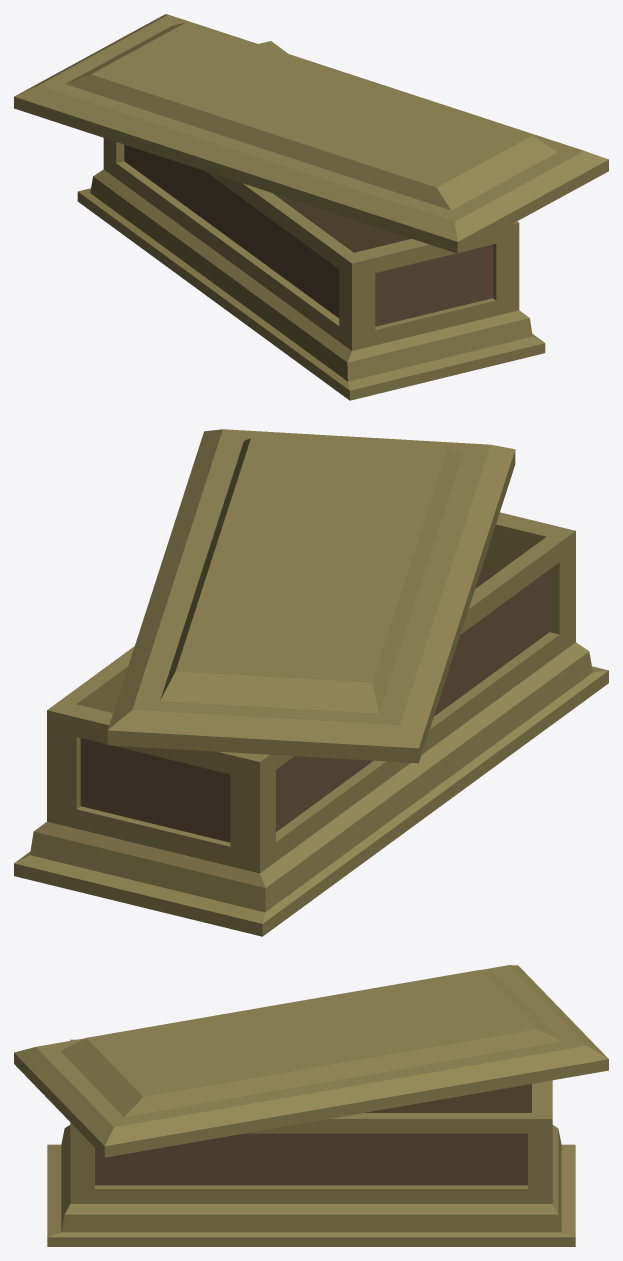
Rendered from Coffin3.fbx.
3 renders of one model, top to bottom at view 1: azimuth 30°, elevation 25°; view 2: azimuth 150°, elevation 25°; view 3: azimuth 270°, elevation 25°, orthographic. The views are drawn at different scales.
Parts seen in each view (by area): view 1: Coffin3; view 2: Coffin3; view 3: Coffin3.
Part boxes in pixels (bbox=[...]): Coffin3: bbox=[14, 14, 608, 400]; Coffin3: bbox=[14, 429, 608, 936]; Coffin3: bbox=[14, 965, 608, 1246].
Size of the model in its own units: 1.6 by 0.6886 by 2.22.
